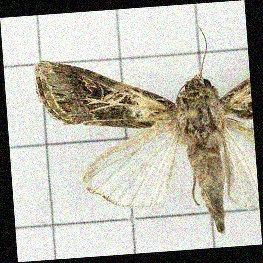Spodoptera litura: (38, 27, 254, 242)
